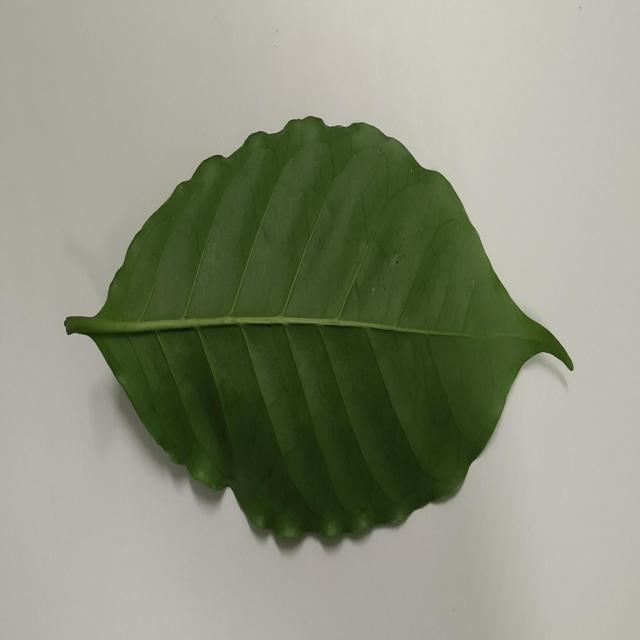Sanas: (62, 118, 574, 554)
